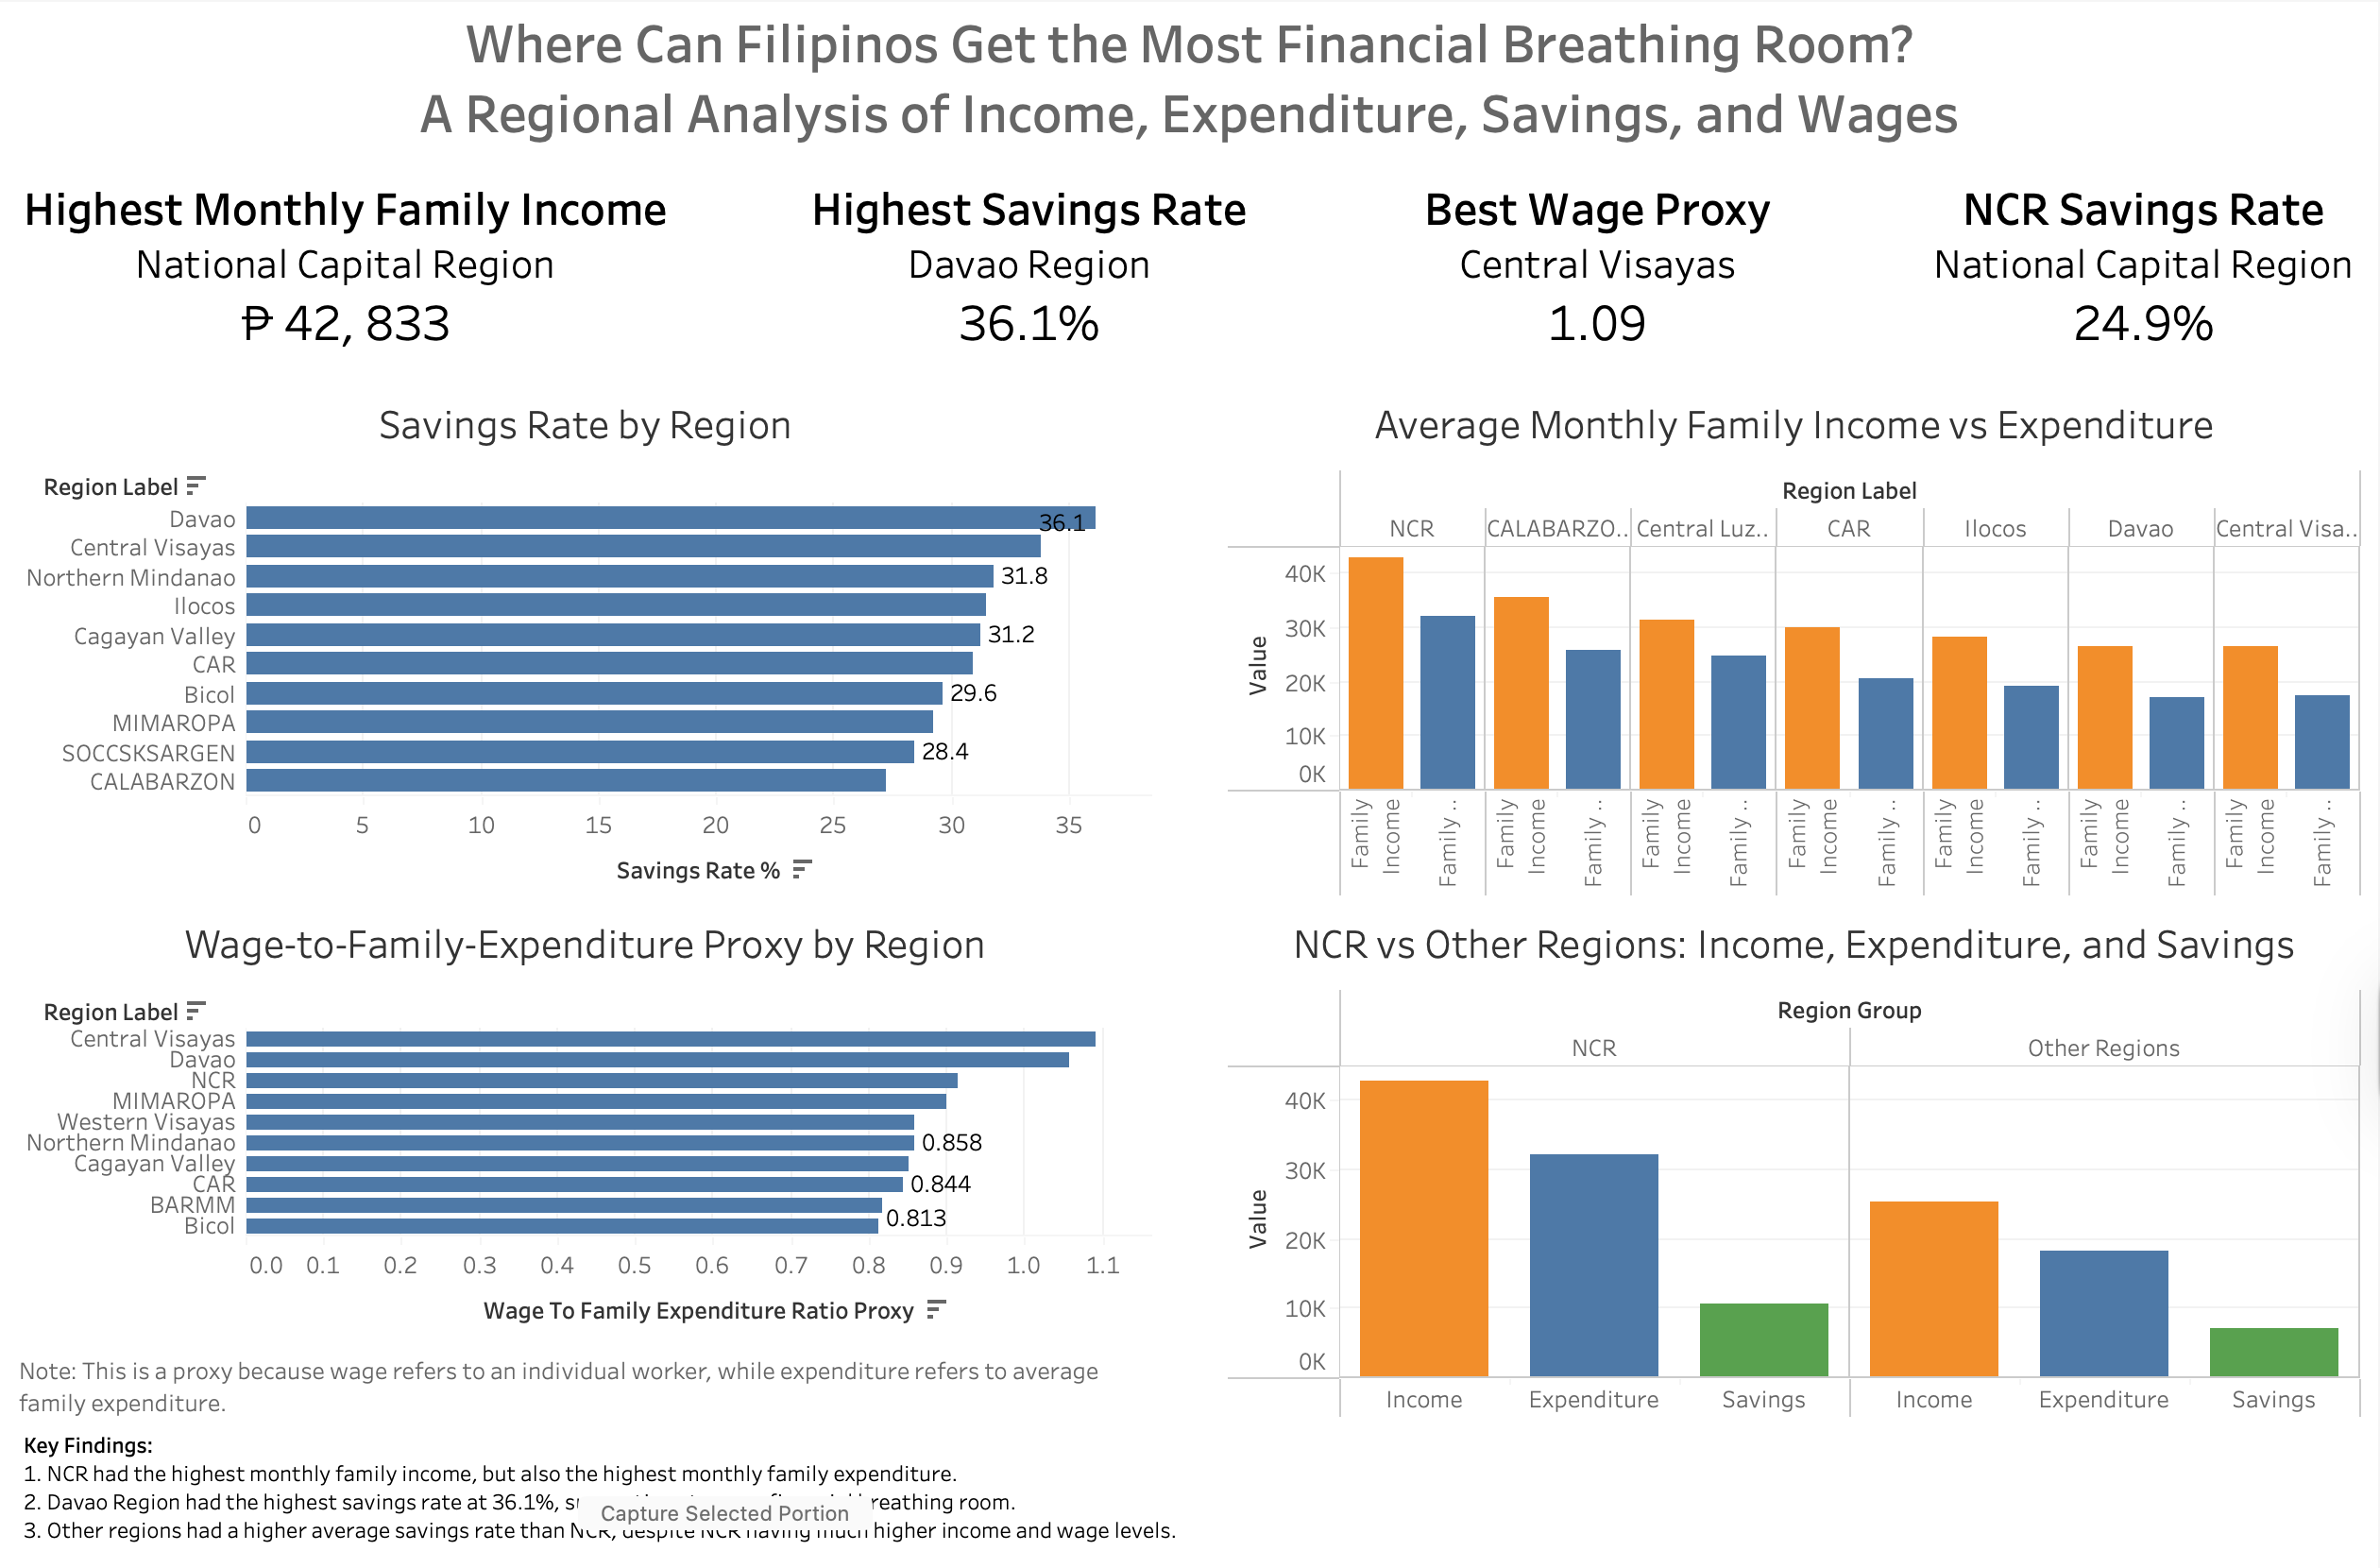

This screenshot's page, from the dashboard's own definition file:
{"tool":"tableau","page":{"name":"Dashboard 1","canvas":[1000,1000],"units":"permille","ordinal":0},"visuals":[{"type":"text","box":[0,0,1000.8,96.3]},{"type":"text","box":[7.9,108.3,274.8,120.3]},{"type":"text","box":[337.6,108.3,190.6,120.3]},{"type":"text","box":[595.7,108.3,152.5,120.3]},{"type":"text","box":[810.2,108.3,182.7,120.3]},{"type":"worksheet","title":"Savings Rate by Region","mark":"Bar","rows":["Calculation_5726336752984067"],"cols":["Calculation_5726336733024256"],"box":[7.9,246.7,476.6,324.9]},{"type":"worksheet","title":"Income vs Expenditure","mark":"Bar","cols":["Calculation_5726336752984067"],"box":[516.3,246.7,476.6,324.9]},{"type":"worksheet","title":"Wage Proxy by Region","mark":"Bar","rows":["Calculation_5726336752984067"],"cols":["wage_to_family_expenditure_ratio_proxy"],"box":[7.9,577.6,476.6,324.9]},{"type":"worksheet","title":"NCR vs Other Regions","mark":"Automatic","cols":["Calculation_5726336733184001"],"box":[516.3,577.6,476.6,324.9]},{"type":"text","box":[7.9,911,493.2,73.4]}]}

Visuals, with their boxes on the dashboard's canvas, which has no fixed pixel size, in thousandths of its width and height (x1, y1, x2, y2). These are canvas units, not pixel positions in the 2380x1568 screenshot, which may show the page scaled, cropped or inside an application window:
text: bbox(0, 0, 1001, 96)
text: bbox(8, 108, 283, 229)
text: bbox(338, 108, 528, 229)
text: bbox(596, 108, 748, 229)
text: bbox(810, 108, 993, 229)
"Savings Rate by Region" worksheet (Bar marks): bbox(8, 247, 484, 572)
"Income vs Expenditure" worksheet (Bar marks): bbox(516, 247, 993, 572)
"Wage Proxy by Region" worksheet (Bar marks): bbox(8, 578, 484, 902)
"NCR vs Other Regions" worksheet: bbox(516, 578, 993, 902)
text: bbox(8, 911, 501, 984)
